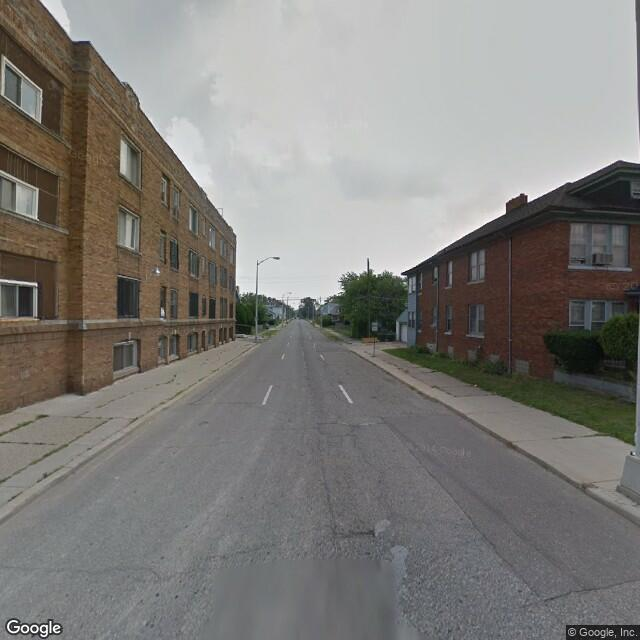litter: (472, 383, 480, 387)
